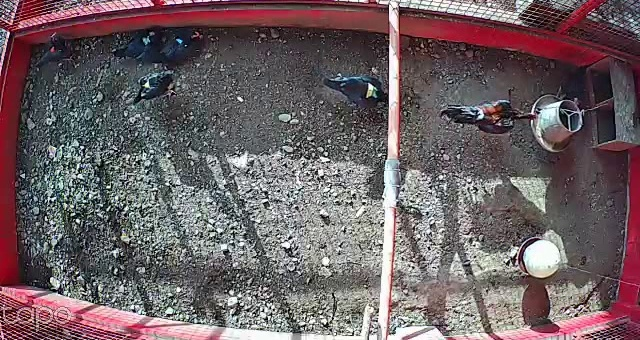Chicken: (322, 68, 390, 114), (148, 28, 209, 67), (107, 22, 168, 61), (553, 59, 597, 113), (30, 29, 82, 73), (132, 67, 180, 105)
Rooster: (436, 97, 544, 137)
Saddle_Color_Blue: (173, 36, 188, 47)
Saddle_Color_Red: (49, 46, 54, 51)
Saddle_Color_Yellow: (141, 79, 155, 88)
Saddle_Color_YellowGreen: (363, 82, 377, 97)
